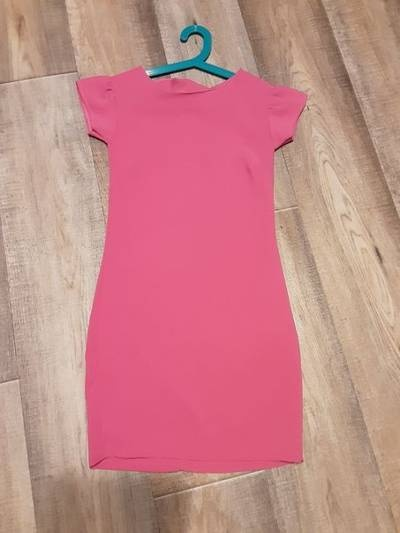Dress: (60, 48, 345, 491)
